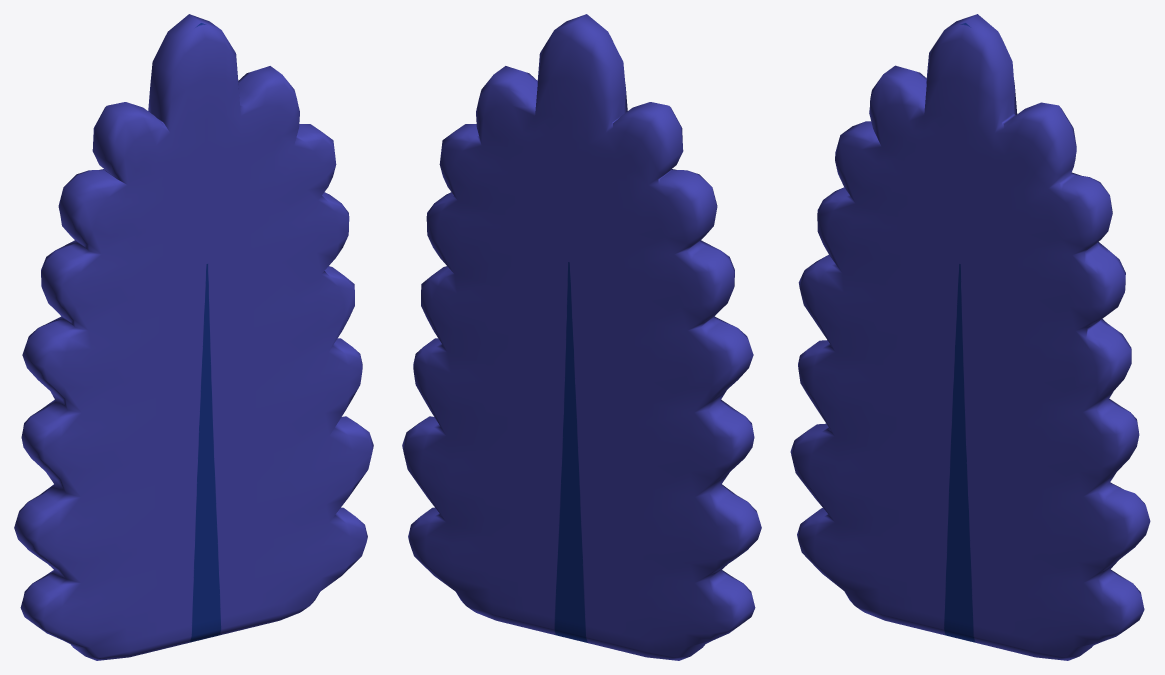
Rendered from Bush2.obj.
The picture shows the model from 3 angles, left to right: view 1: azimuth 30°, elevation 25°; view 2: azimuth 150°, elevation 25°; view 3: azimuth 330°, elevation 25°; orthographic projection.
Visible parts, largest first — view 1: pCube1; view 2: pCube1; view 3: pCube1.
Boxes of the visible parts, x1,y1,x2,y2 form: pCube1: (14, 14, 373, 660); pCube1: (402, 14, 761, 660); pCube1: (790, 14, 1150, 660).
Size of the model in its own units: 2.42 by 4.09 by 0.2889.
1 material, 1 textured.
